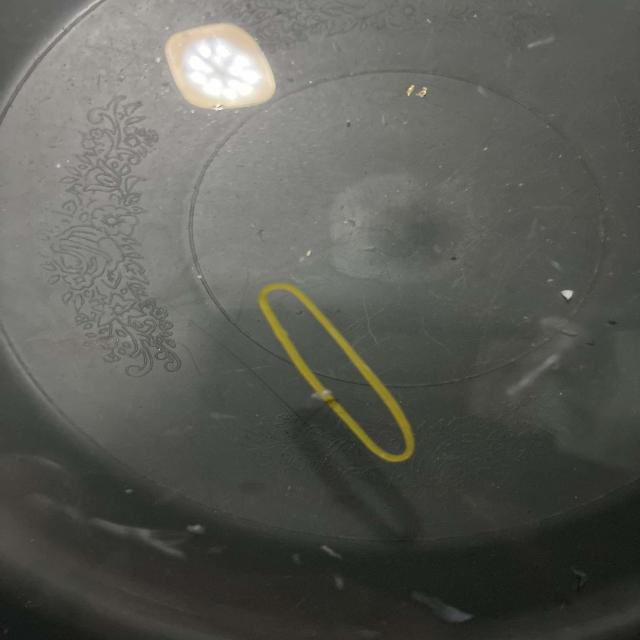Rubberband: (219, 259, 417, 482)
